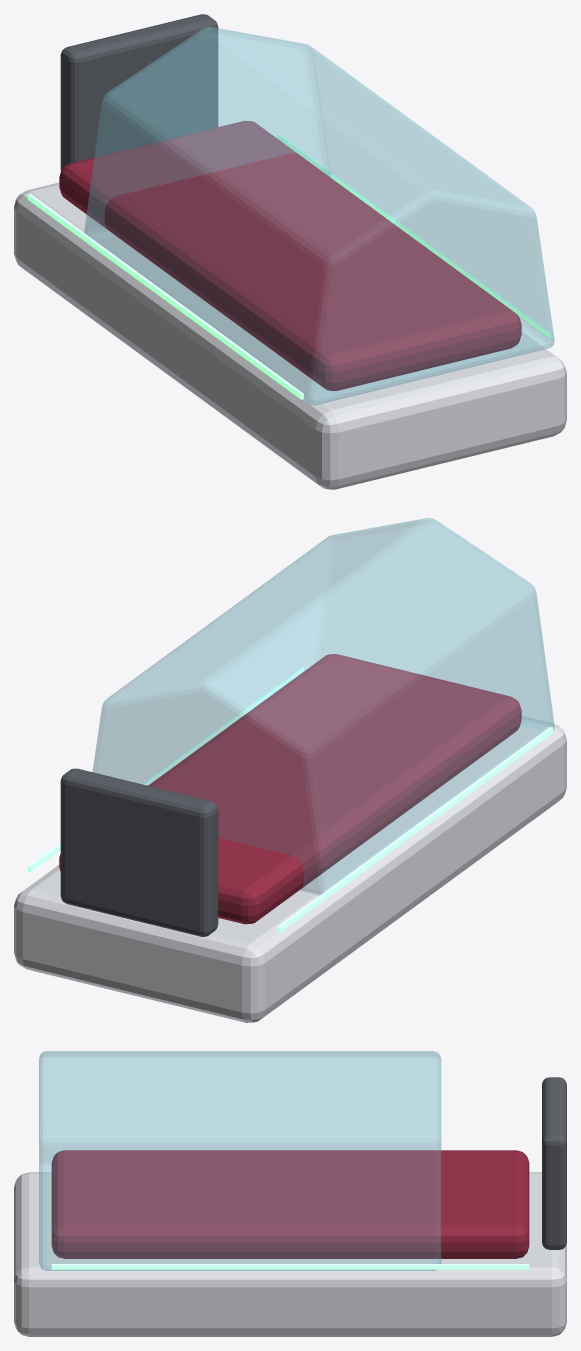
Rendered from cryo_pod_reclined.glb.
The picture shows the model from 3 angles, top to bottom: view 1: azimuth 30°, elevation 25°; view 2: azimuth 150°, elevation 25°; view 3: azimuth 270°, elevation 25°; orthographic projection. The views are drawn at different scales.
Visible parts, largest first — view 1: GD_cryo_pod_reclined__m2, GD_cryo_pod_reclined__m1, GD_cryo_pod_reclined__m0, GD_cryo_pod_reclined__m3, GD_cryo_pod_reclined__m4; view 2: GD_cryo_pod_reclined__m2, GD_cryo_pod_reclined__m1, GD_cryo_pod_reclined__m0, GD_cryo_pod_reclined__m3, GD_cryo_pod_reclined__m4; view 3: GD_cryo_pod_reclined__m2, GD_cryo_pod_reclined__m1, GD_cryo_pod_reclined__m0, GD_cryo_pod_reclined__m3, GD_cryo_pod_reclined__m4.
Part boxes in pixels (x1=…): GD_cryo_pod_reclined__m2: x1=84, y1=27, x2=554, y2=405; GD_cryo_pod_reclined__m1: x1=59, y1=121, x2=521, y2=390; GD_cryo_pod_reclined__m0: x1=14, y1=182, x2=566, y2=489; GD_cryo_pod_reclined__m3: x1=60, y1=14, x2=218, y2=170; GD_cryo_pod_reclined__m4: x1=27, y1=133, x2=553, y2=399; GD_cryo_pod_reclined__m2: x1=92, y1=518, x2=554, y2=895; GD_cryo_pod_reclined__m1: x1=59, y1=654, x2=521, y2=924; GD_cryo_pod_reclined__m0: x1=14, y1=716, x2=566, y2=1022; GD_cryo_pod_reclined__m3: x1=60, y1=768, x2=218, y2=936; GD_cryo_pod_reclined__m4: x1=27, y1=666, x2=553, y2=932; GD_cryo_pod_reclined__m2: x1=39, y1=1051, x2=441, y2=1270; GD_cryo_pod_reclined__m1: x1=51, y1=1150, x2=529, y2=1258; GD_cryo_pod_reclined__m0: x1=14, y1=1172, x2=566, y2=1336; GD_cryo_pod_reclined__m3: x1=542, y1=1077, x2=566, y2=1249; GD_cryo_pod_reclined__m4: x1=51, y1=1157, x2=529, y2=1269.
Size of the model in its own units: 1.01 by 1.01 by 2.2.
